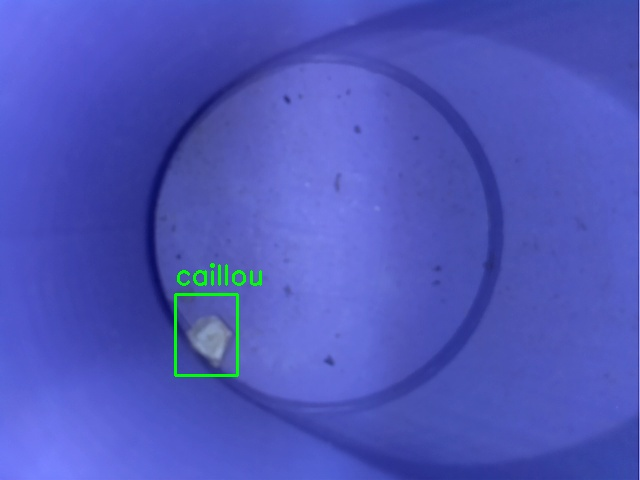caillou: (175, 294, 237, 375)
